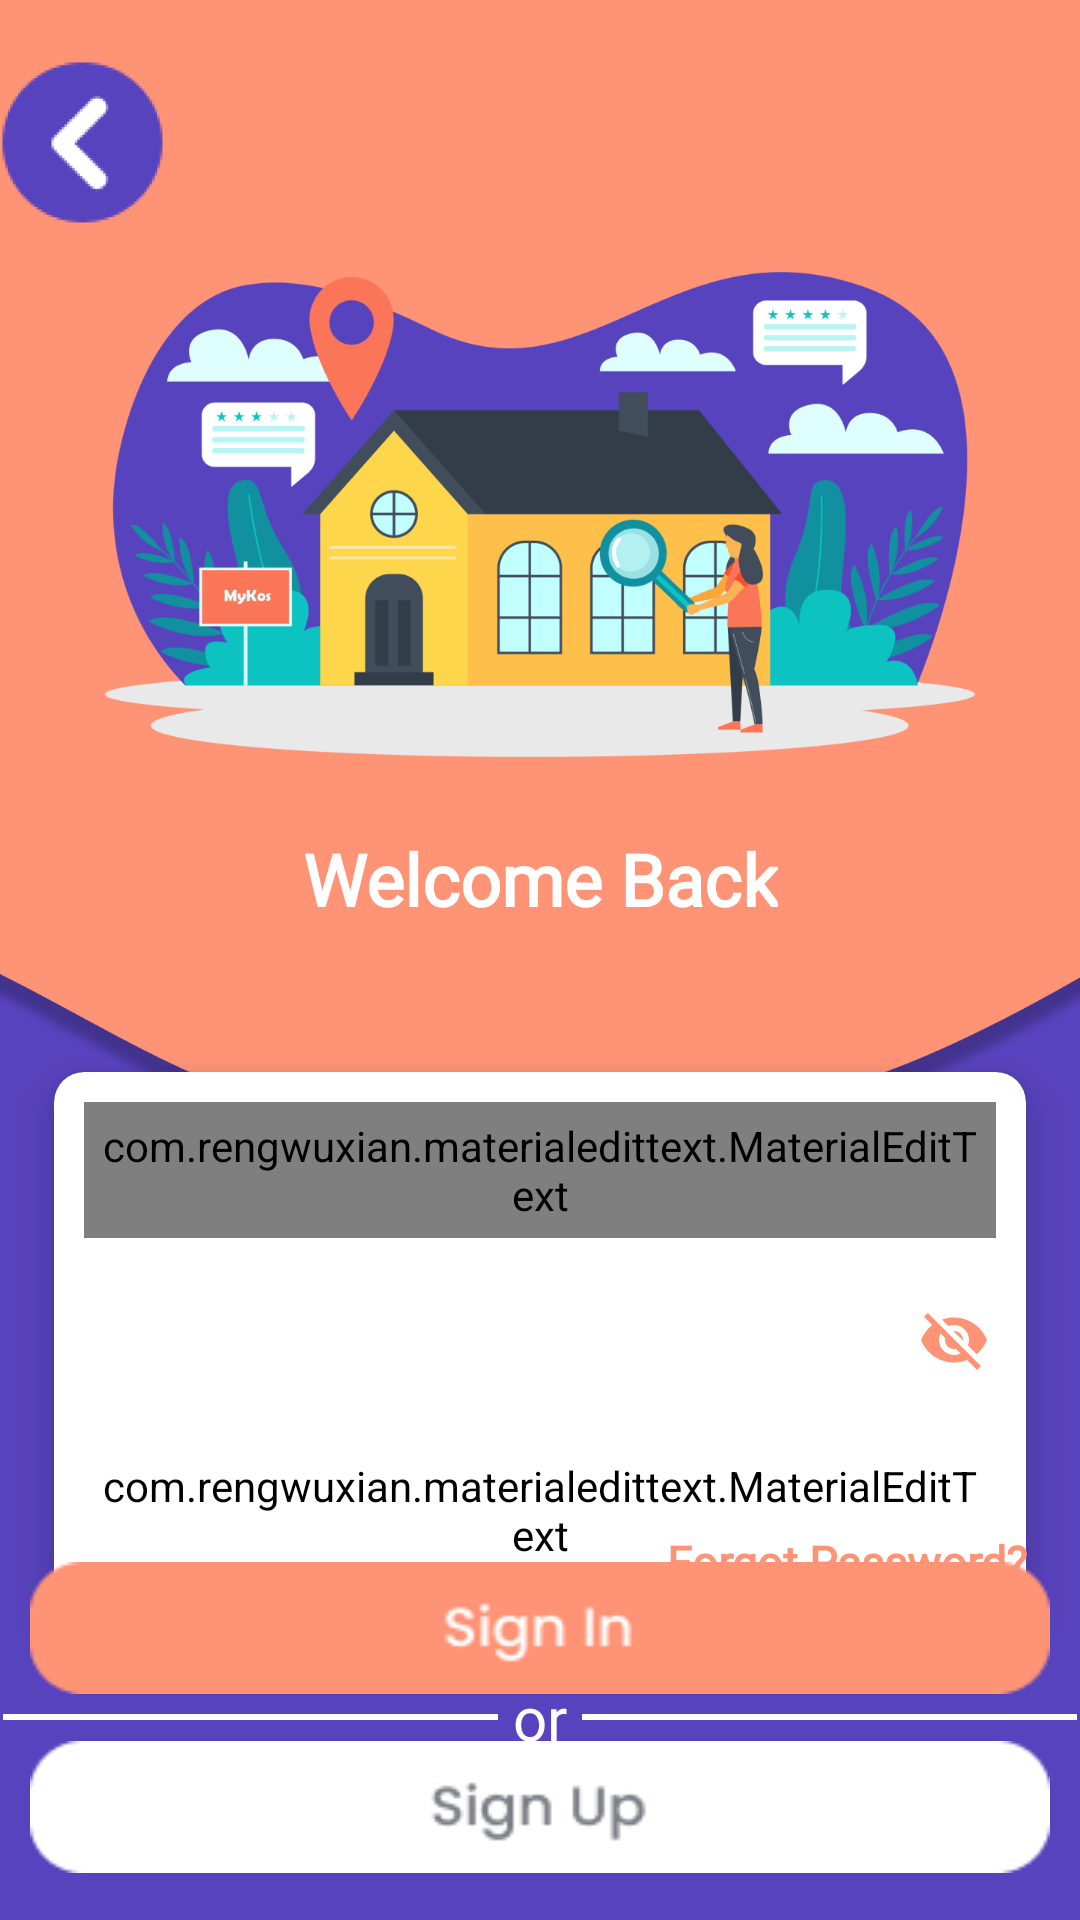

Where to tap for icons on this 1080px×1920px app screen, as point (x, y):
btnback: point (82, 142)
